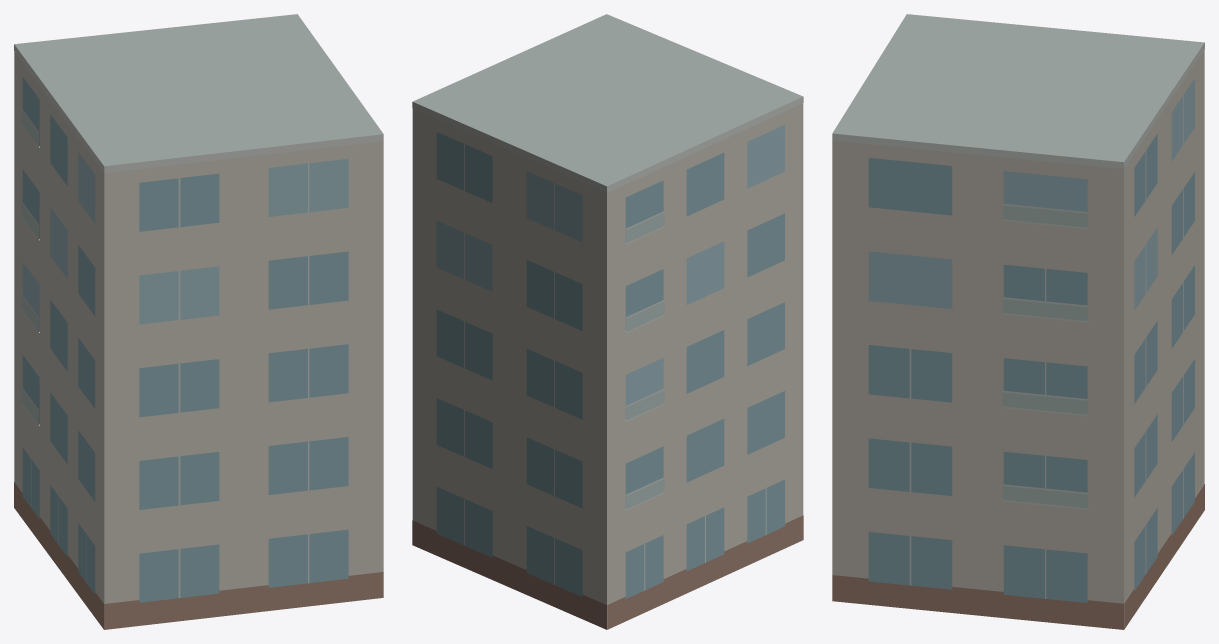
The model's file is survey-upis-32987276.glb.
3 views of the same model, side by side, from view 1: azimuth 30°, elevation 25°; view 2: azimuth 150°, elevation 25°; view 3: azimuth 270°, elevation 25° (orthographic). The views are drawn at different scales.
Visible parts, largest first — view 1: survey-upis-32987276.tmp; view 2: survey-upis-32987276.tmp; view 3: survey-upis-32987276.tmp.
Part boxes in pixels (x1=…): survey-upis-32987276.tmp: x1=14, y1=14, x2=383, y2=629; survey-upis-32987276.tmp: x1=412, y1=14, x2=803, y2=629; survey-upis-32987276.tmp: x1=832, y1=14, x2=1204, y2=629.
Bounding box in the file's own units: 11.22 × 16.5 × 11.92.
